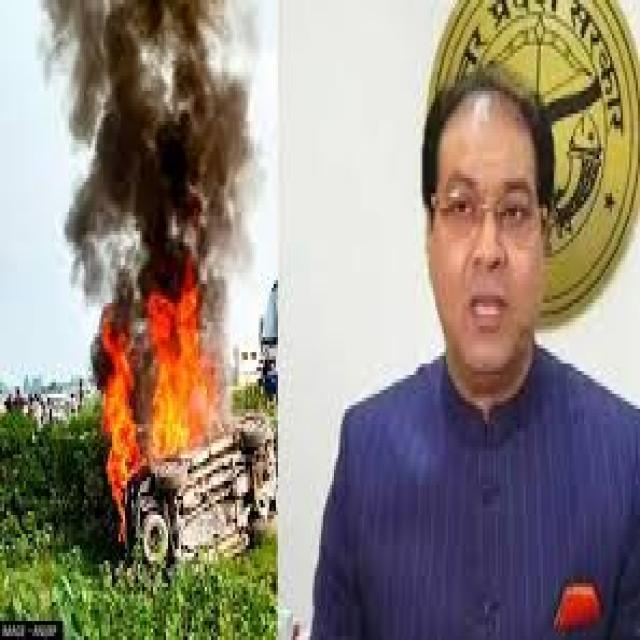Fire: (103, 283, 220, 435), (131, 416, 209, 470), (108, 436, 130, 544)
Smoke: (54, 0, 252, 288)
